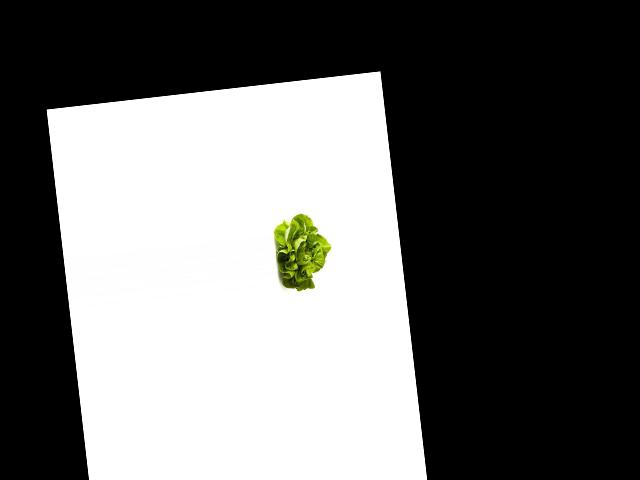lettuce: (271, 208, 335, 294)
